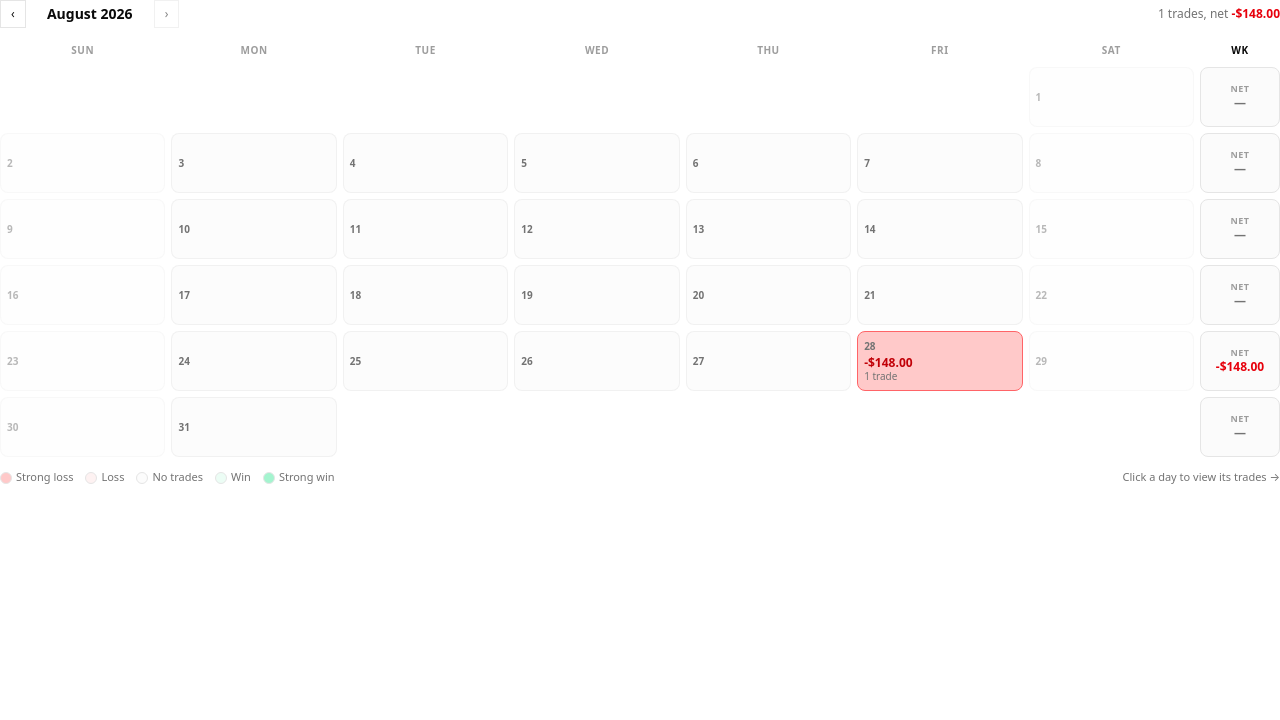
Test: CalendarTab › closes the modal on Escape
Click the text "1 trade" at (881, 376), box [864,369,897,383]
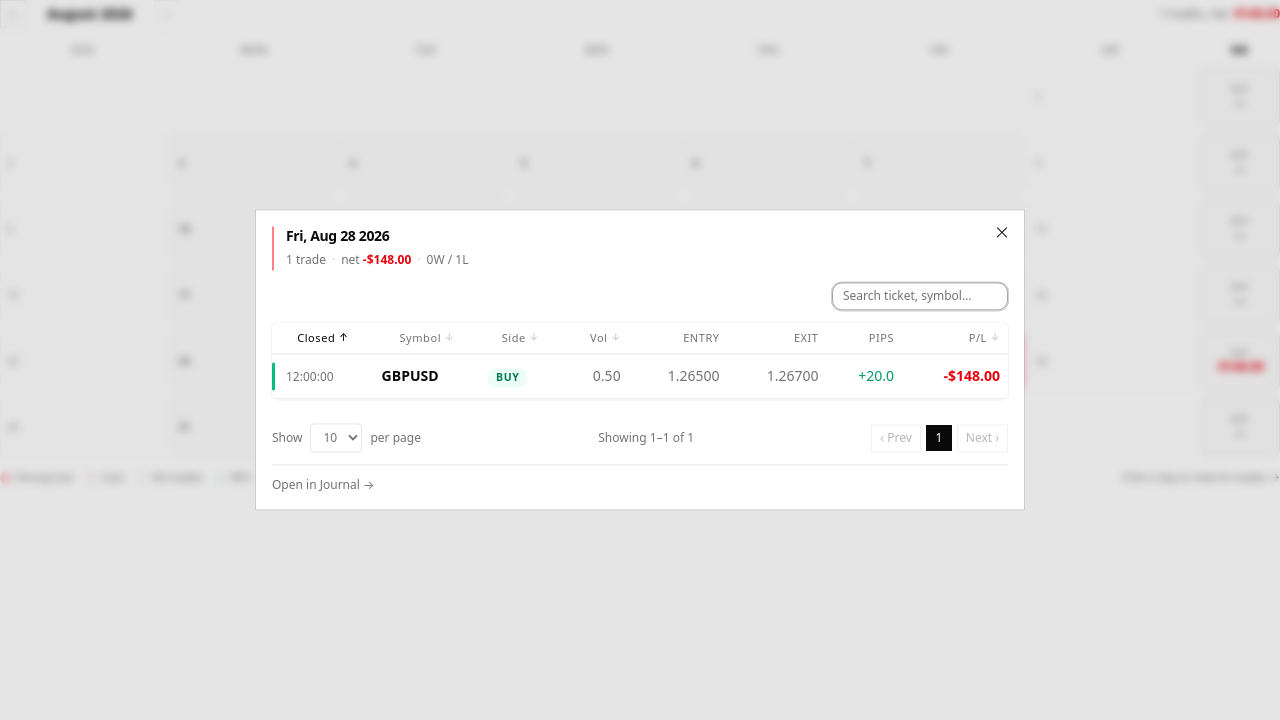
Press Escape in the dialog, box [256,210,1024,510]
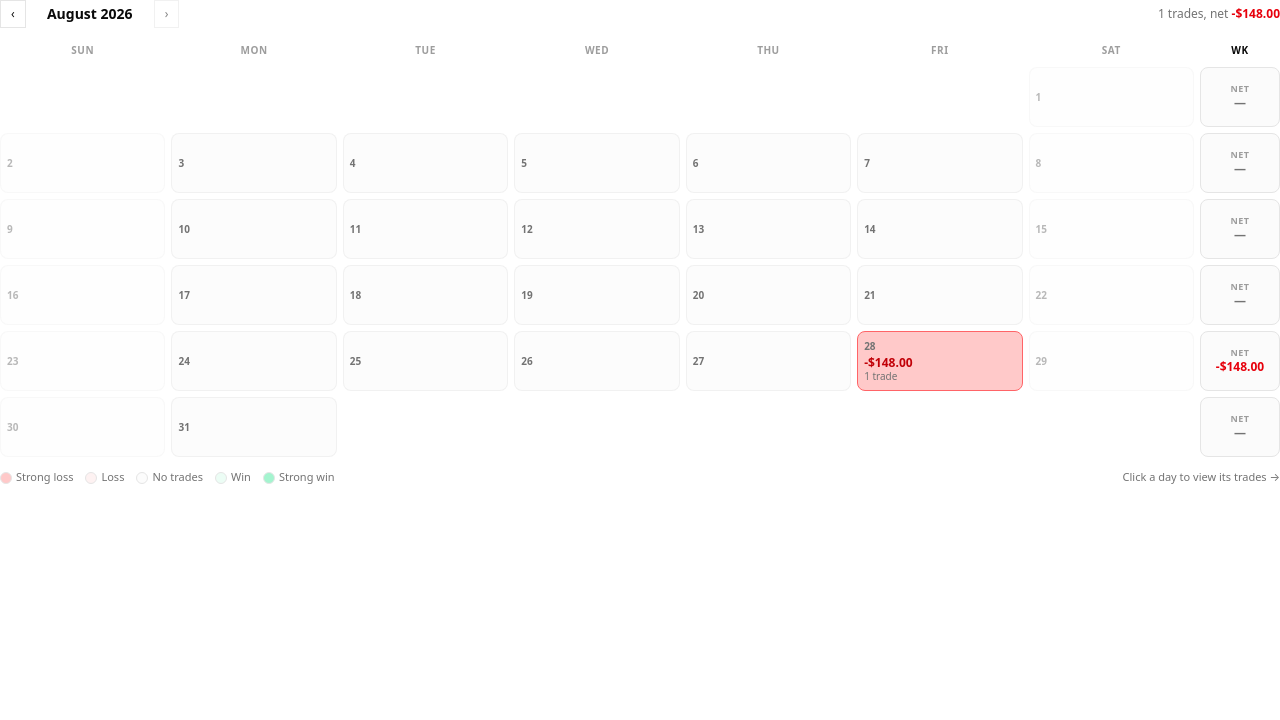
Expected: the dialog is gone
